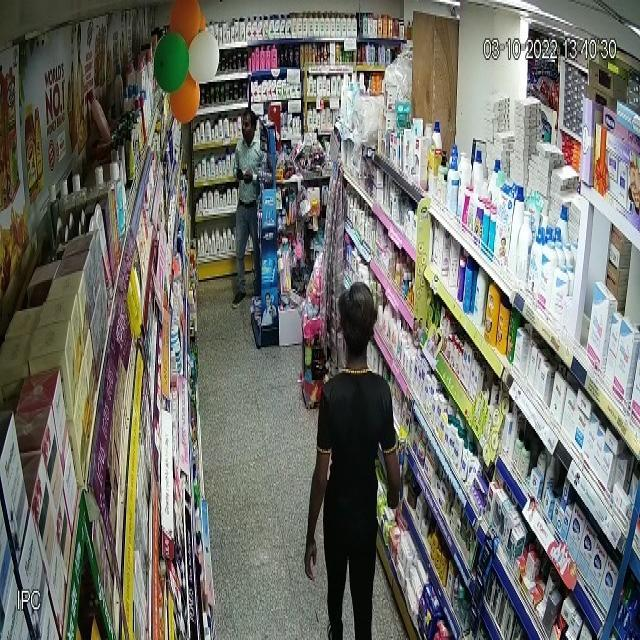Normal: (301, 257, 425, 640)
